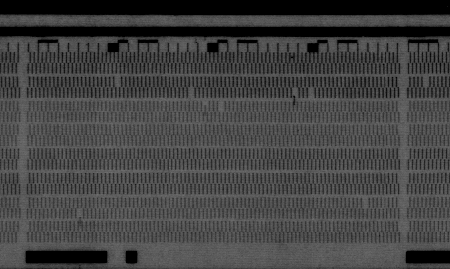Broken hole: (112, 77, 124, 90), (215, 99, 227, 112), (305, 87, 318, 99), (420, 77, 433, 89), (185, 87, 196, 99), (360, 197, 371, 209)
Oblique printing: (290, 86, 302, 103), (73, 210, 86, 223)
